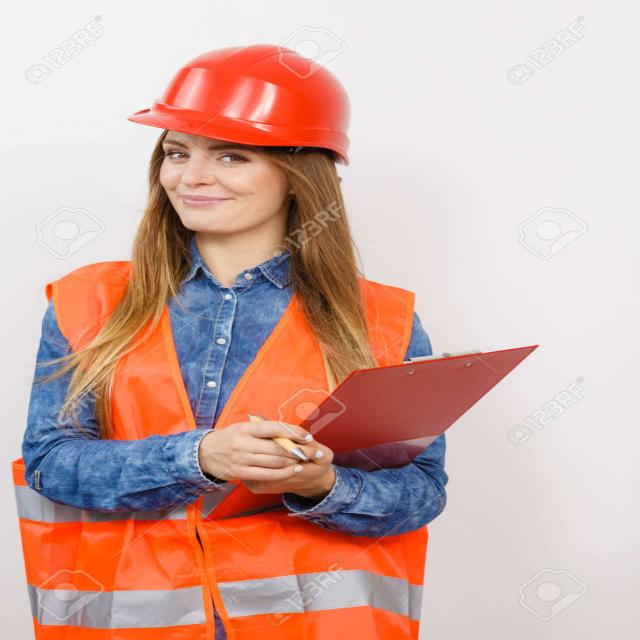helmet: (110, 35, 370, 171)
no-goggles: (132, 121, 312, 183)
vest: (22, 242, 446, 634)
